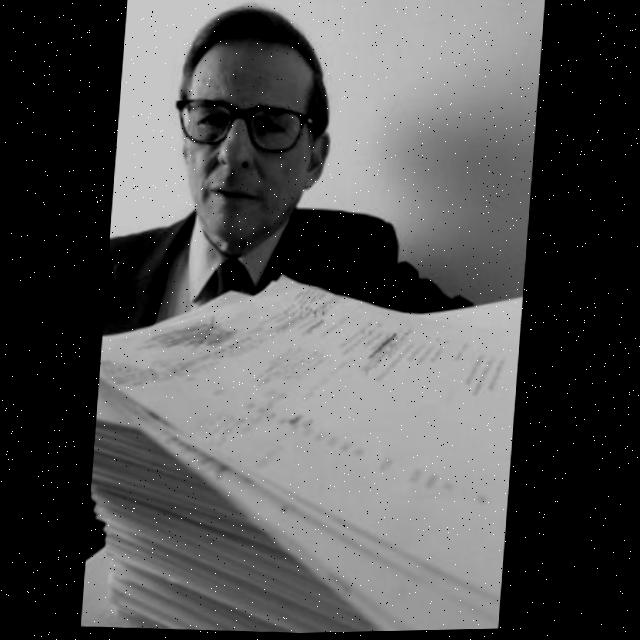face: (173, 22, 330, 259)
